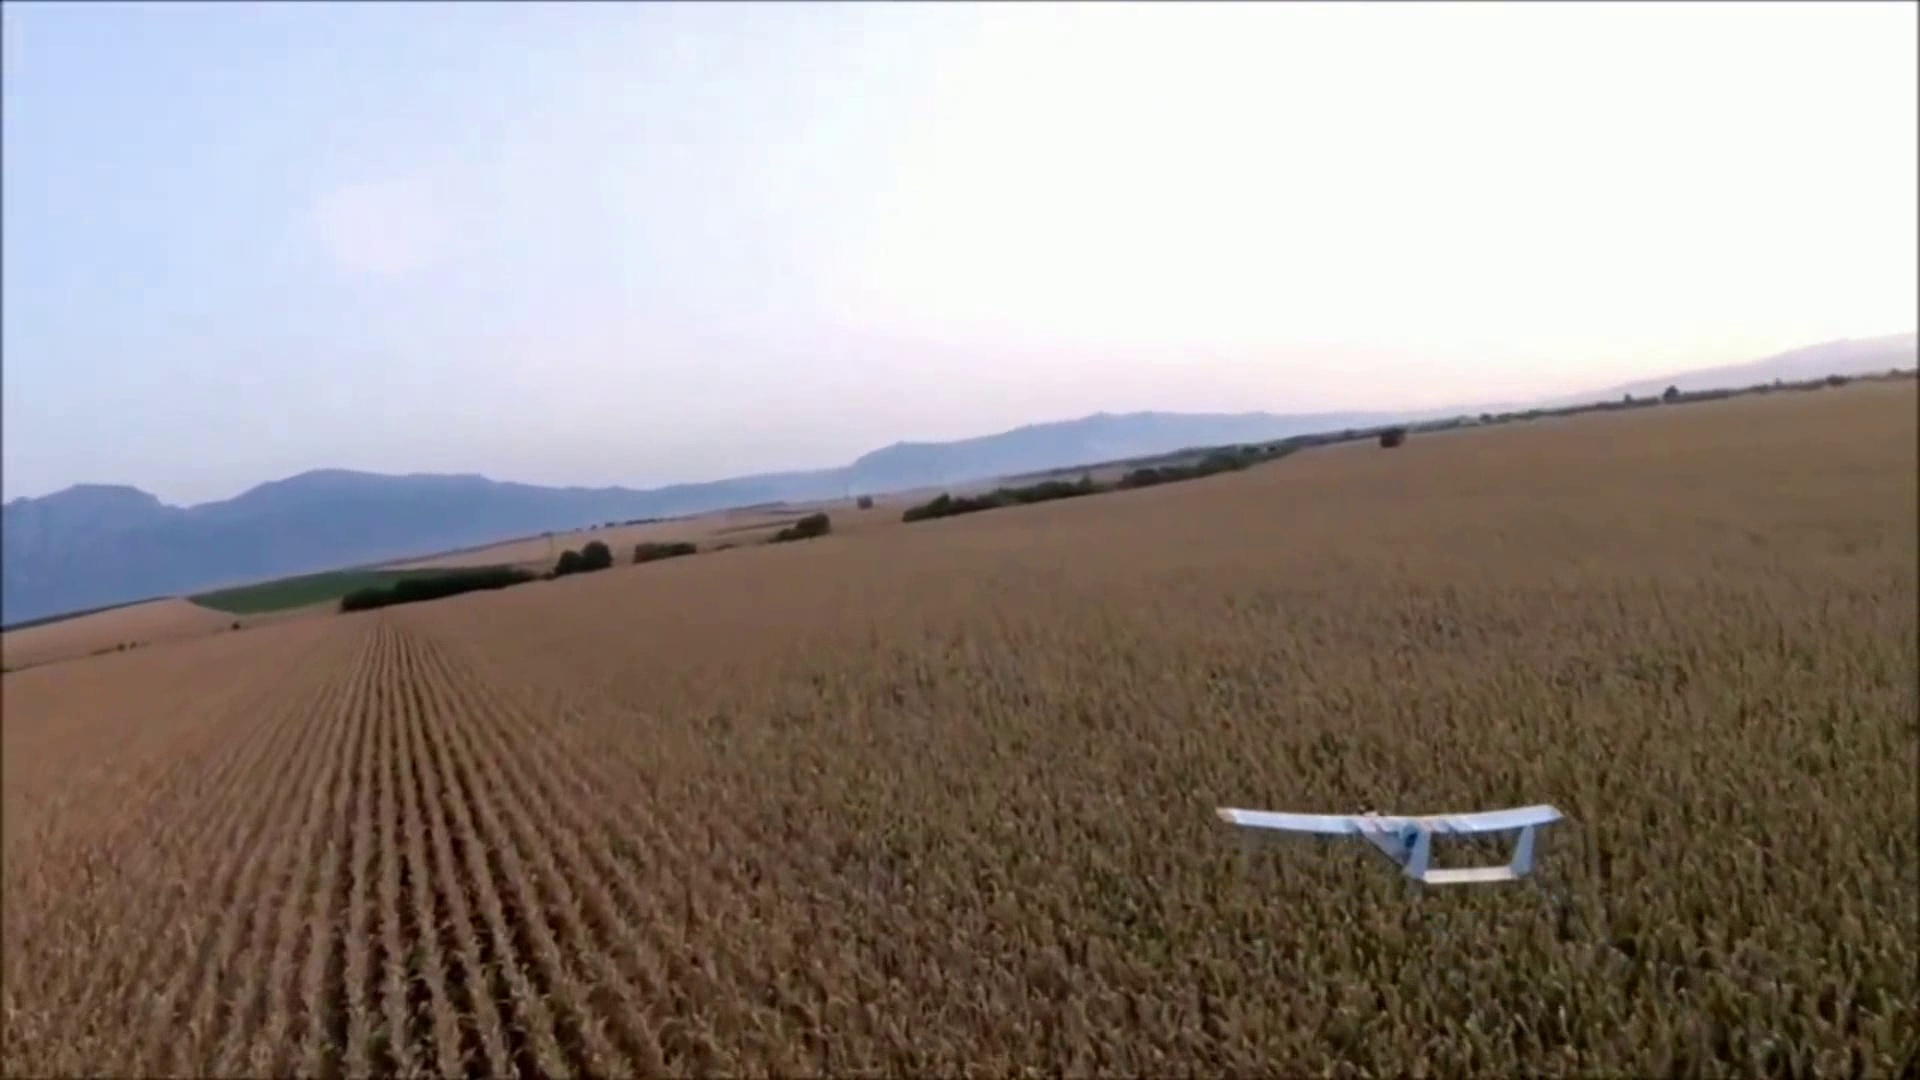airplane: (1209, 802, 1563, 882)
